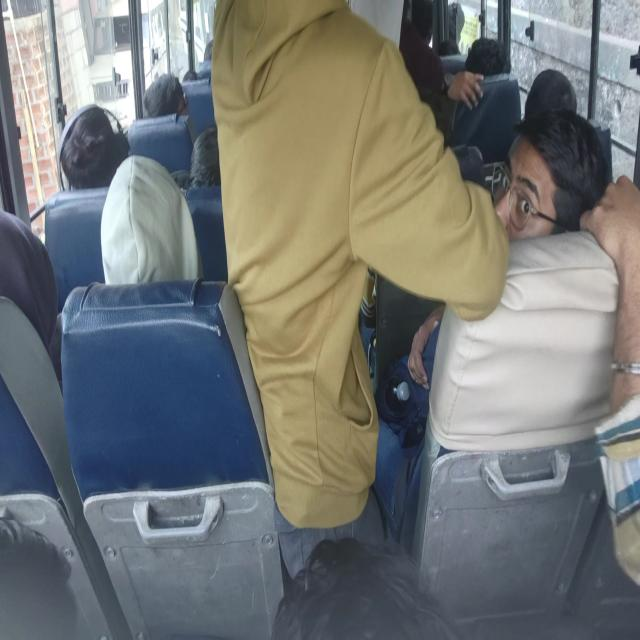person: (208, 0, 385, 515), (593, 196, 640, 544), (484, 140, 599, 247), (104, 163, 186, 296), (337, 0, 414, 108), (0, 226, 54, 357), (388, 0, 461, 92), (60, 93, 124, 181), (147, 66, 183, 128), (466, 33, 510, 80), (529, 72, 567, 124), (190, 132, 230, 173)
